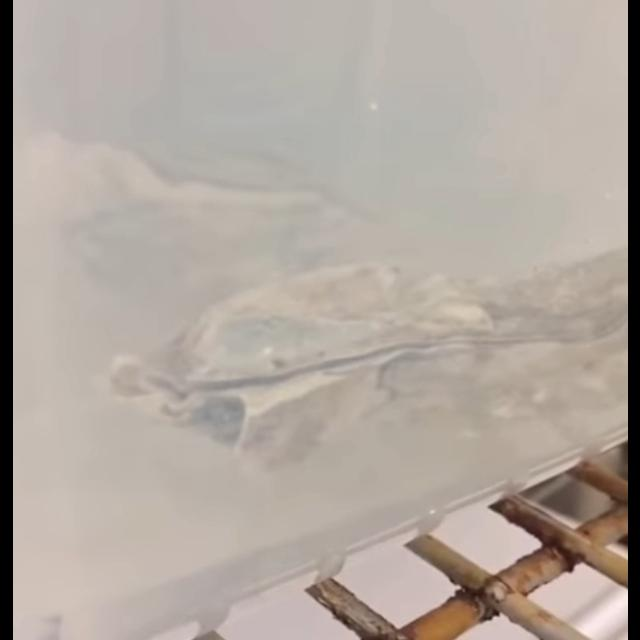Oyster-Closed: (101, 246, 628, 476)
Oyster-Indeterminate: (50, 123, 344, 243)
